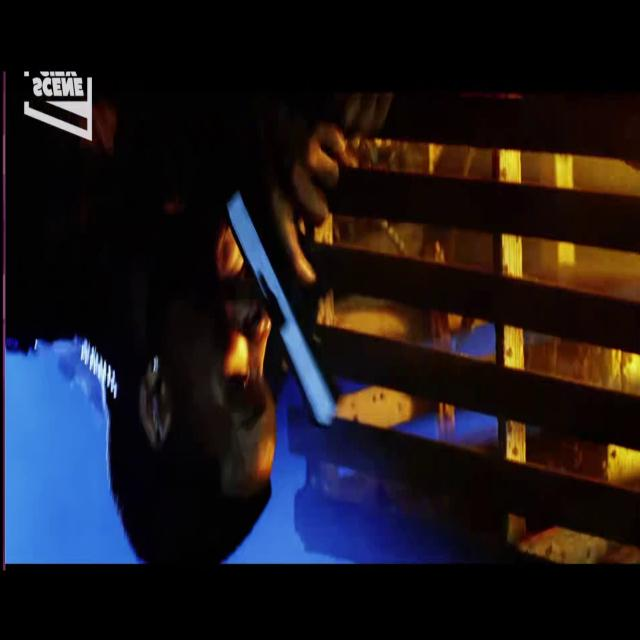weapons: (214, 134, 348, 454)
